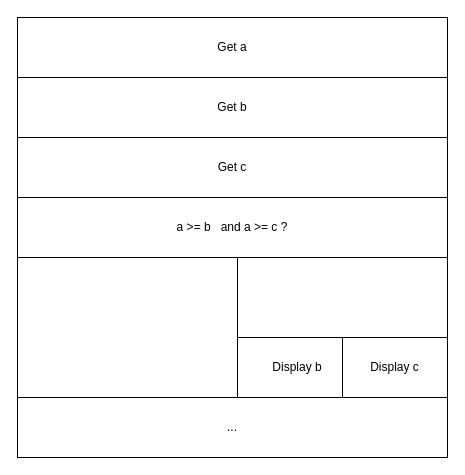
Some shapes in this 465 by 475 pixel diagram are drawn without their labels. The centre of each missing label's shape, as x and y in pixels:
"b >= c ?" goes at point (342, 297).
"Display a" goes at point (127, 327).
